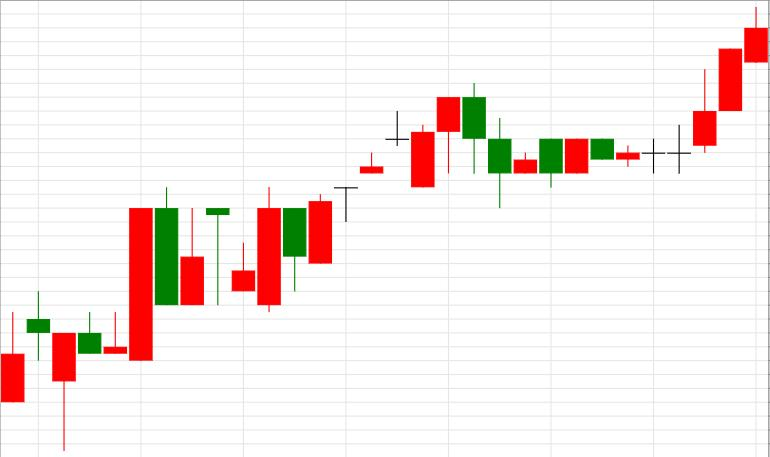bearish_engulfing_fall: (232, 82, 486, 313)
hanging_man_fall: (232, 98, 460, 313)
